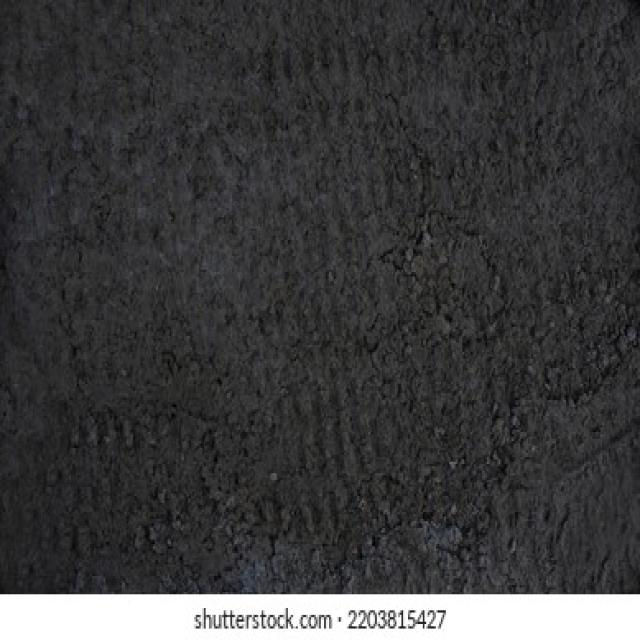Black Soil: (38, 53, 619, 543)
